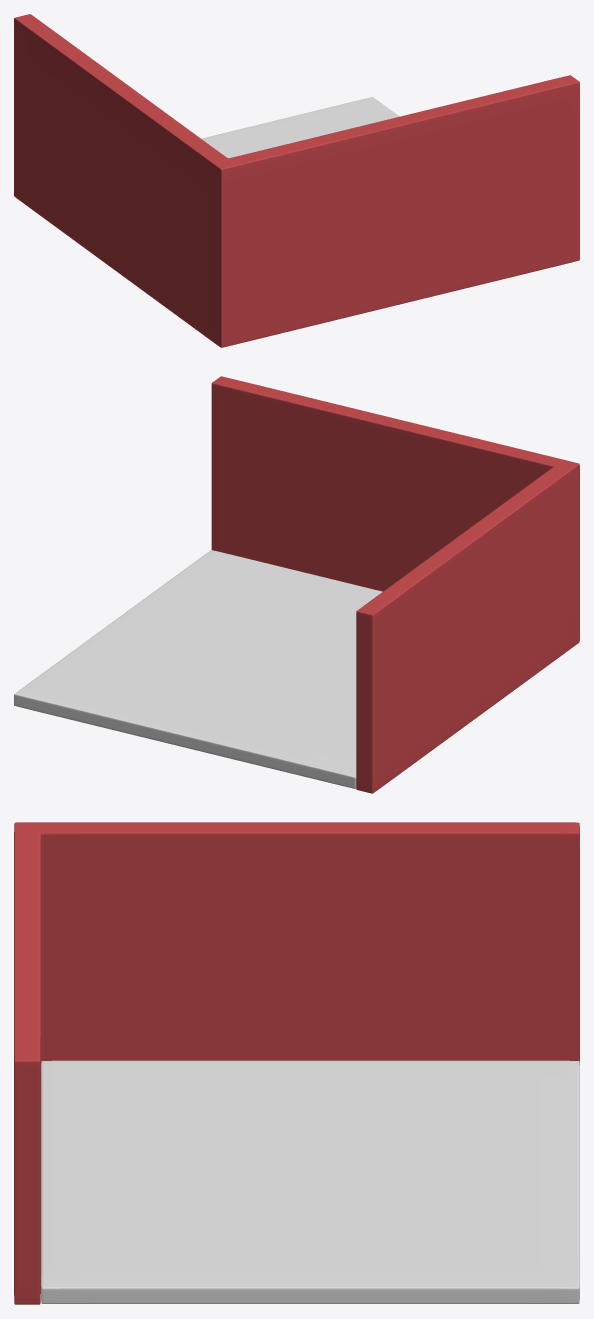
File: base_gym.fbx
3 views of the same model, one above another, from view 1: azimuth 30°, elevation 25°; view 2: azimuth 150°, elevation 25°; view 3: azimuth 270°, elevation 25° (orthographic). The views are drawn at different scales.
Parts seen in each view (by area): view 1: Cube.037, Cube.038; view 2: Cube.037, Cube.038; view 3: Cube.037, Cube.038.
Boxes of the visible parts, left/top/right/bottom form: Cube.037: left=14, top=14, right=579, bottom=347; Cube.038: left=201, top=97, right=399, bottom=158; Cube.037: left=211, top=376, right=579, bottom=793; Cube.038: left=14, top=550, right=382, bottom=788; Cube.037: left=14, top=822, right=579, bottom=1304; Cube.038: left=41, top=1060, right=579, bottom=1303.
Bounding box in the file's own units: 2100 × 1000 × 2100.
